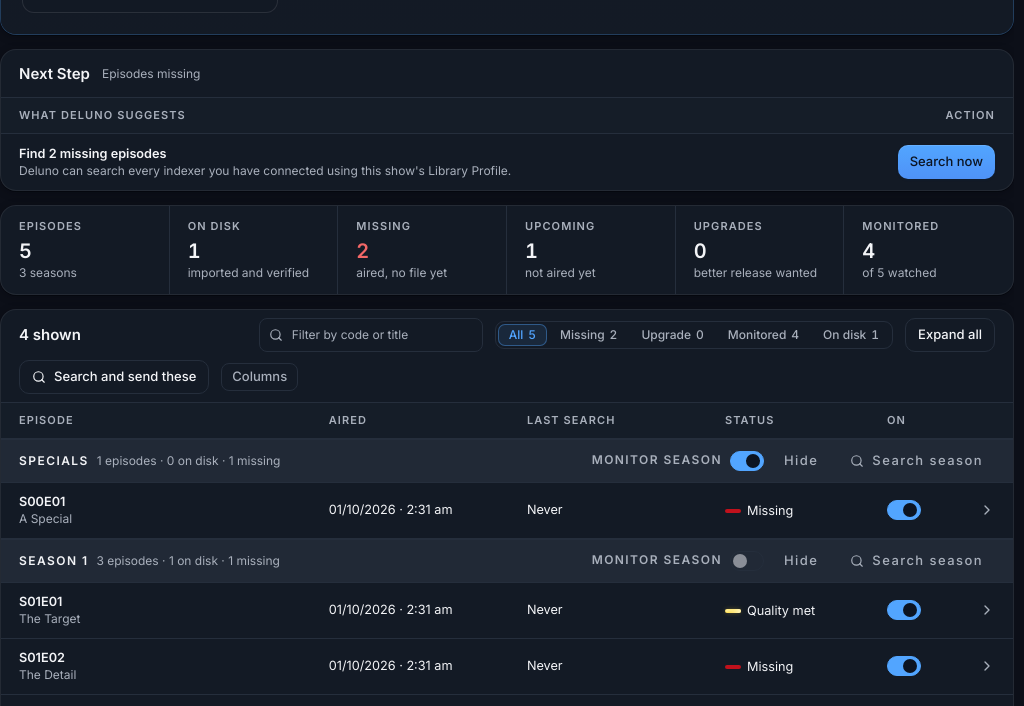
Test: the show's Episodes tab › says no episodes match when a filter hides all of them and no episodes are tracked when there are none
This screenshot has width=1024, height=706.
(page scrolled)
Type "zzz" into the search field with placeholder "Filter by code or title". click: (371, 334)
box: x1=259 y1=318 x2=483 y2=352
(page scrolled)
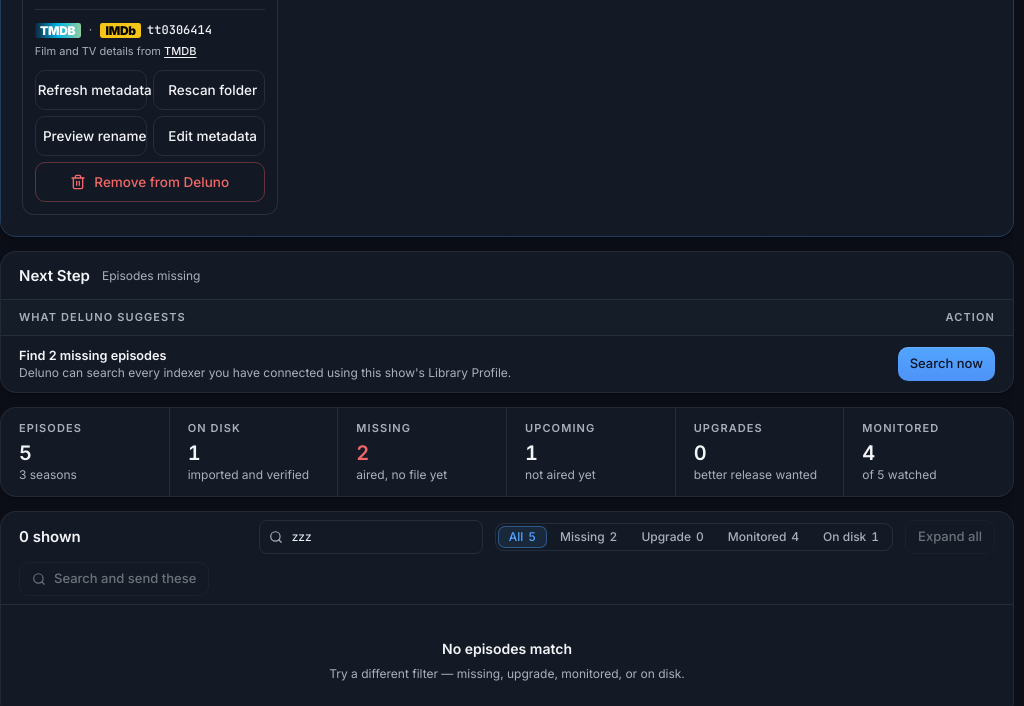
Expected: the text "No episodes match" is shown, x1=442 y1=638 x2=572 y2=659
